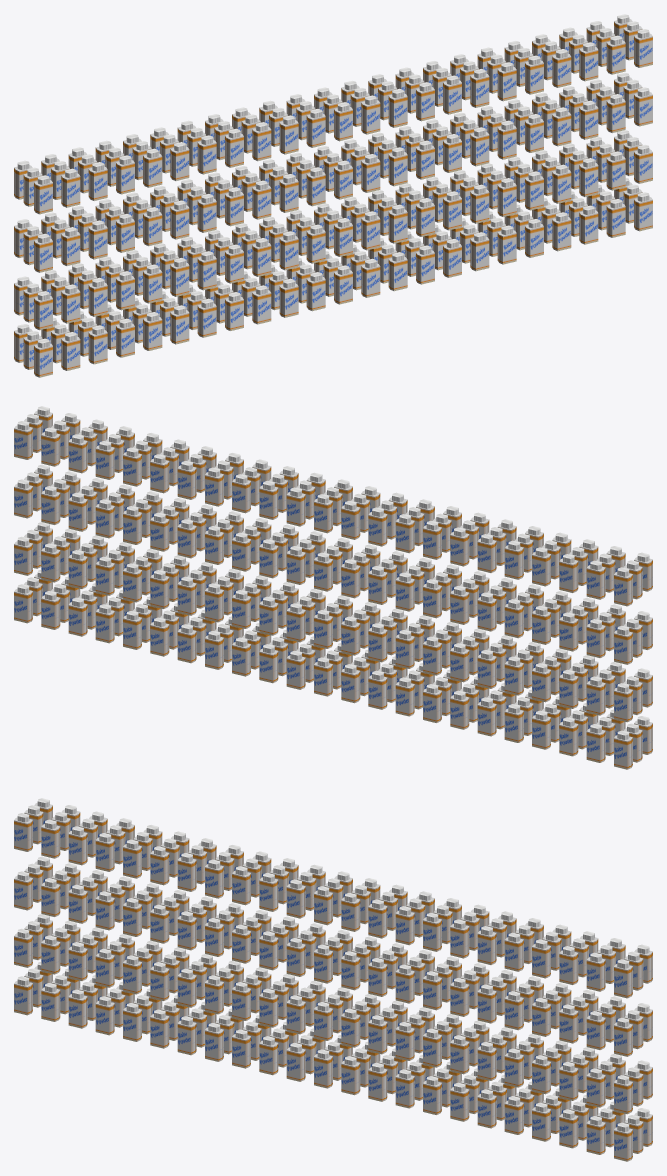
The model's file is Baby_Powder.fbx.
3 renders of one model, top to bottom at view 1: azimuth 30°, elevation 25°; view 2: azimuth 150°, elevation 25°; view 3: azimuth 330°, elevation 25°, orthographic.
Parts seen in each view (by area): view 1: Baby_Powder; view 2: Baby_Powder; view 3: Baby_Powder.
Part boxes in pixels (x1,y1,x2,y2): Baby_Powder: (14, 14, 652, 377); Baby_Powder: (14, 406, 652, 769); Baby_Powder: (14, 798, 652, 1161).
Bounding box in the file's own units: 4.52 × 1.38 × 0.325.
